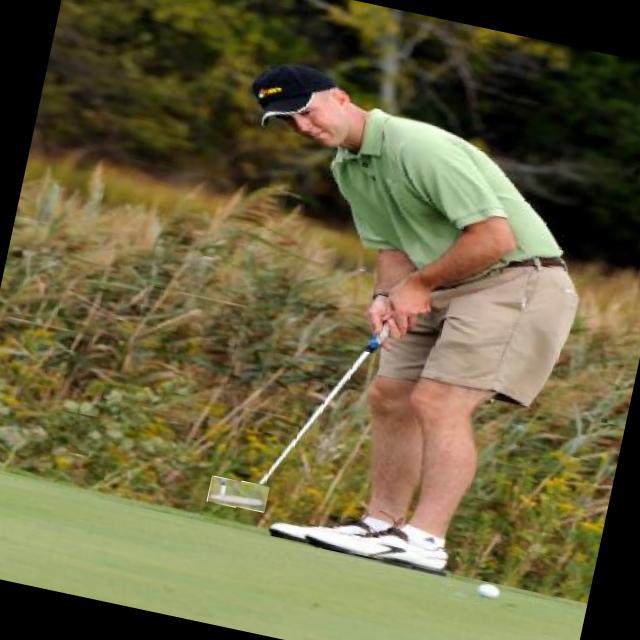club head: (206, 474, 269, 512)
